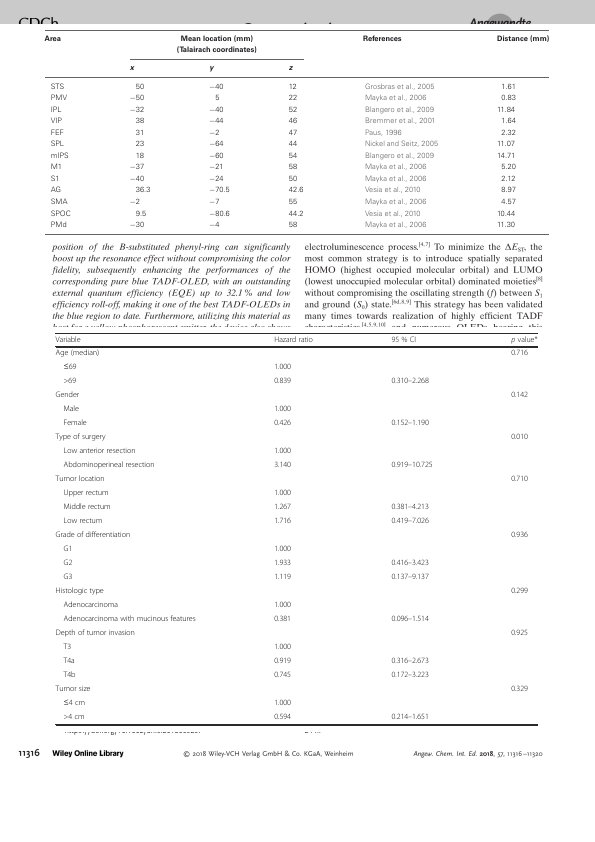borderless: (54, 332, 537, 724), (44, 29, 549, 234)
cell: (176, 35, 258, 55), (62, 615, 196, 625), (62, 461, 155, 471), (54, 629, 136, 639), (54, 531, 131, 541), (62, 447, 136, 457), (364, 140, 439, 149), (364, 118, 436, 127), (364, 83, 435, 92), (364, 106, 435, 115), (364, 152, 435, 161), (62, 601, 119, 611), (364, 175, 427, 184), (364, 198, 427, 207), (364, 221, 427, 230), (364, 187, 421, 196), (364, 210, 421, 219), (55, 433, 106, 443), (54, 587, 105, 597), (364, 95, 427, 103), (364, 164, 427, 172), (55, 475, 105, 485), (62, 503, 112, 513), (62, 489, 109, 499), (55, 349, 100, 359), (496, 35, 550, 43), (390, 461, 433, 471), (62, 517, 103, 527), (390, 377, 430, 387), (390, 419, 430, 429), (390, 503, 430, 513), (390, 517, 430, 527), (390, 559, 430, 569), (390, 573, 430, 583), (390, 615, 430, 625), (390, 657, 430, 667), (390, 671, 430, 681), (390, 713, 430, 723), (54, 685, 91, 695), (273, 336, 314, 345), (364, 129, 403, 138), (362, 35, 403, 43), (62, 419, 88, 429), (510, 336, 538, 345), (55, 391, 80, 401), (390, 336, 417, 345), (62, 699, 86, 709), (55, 336, 81, 345), (62, 713, 85, 723), (208, 187, 231, 196), (208, 210, 231, 219), (50, 210, 72, 219), (510, 349, 529, 359), (273, 363, 292, 373), (273, 377, 292, 387), (510, 391, 529, 401), (273, 405, 292, 415), (273, 419, 292, 429), (510, 433, 529, 443), (273, 447, 292, 457), (273, 461, 292, 471), (510, 475, 529, 485), (273, 489, 292, 499), (273, 503, 292, 513), (273, 517, 292, 527), (510, 531, 529, 541), (273, 545, 292, 555), (273, 559, 292, 569), (273, 573, 292, 583), (510, 587, 529, 597), (273, 601, 292, 611), (273, 615, 292, 625), (510, 629, 529, 639), (273, 643, 292, 653), (273, 657, 292, 667), (273, 671, 292, 681), (510, 685, 529, 695), (273, 699, 292, 709), (273, 713, 292, 723), (62, 405, 80, 415), (496, 106, 516, 115), (496, 140, 516, 149), (50, 152, 70, 161), (496, 152, 516, 161), (496, 210, 516, 219), (496, 221, 516, 230), (50, 198, 68, 207), (50, 221, 68, 230), (208, 83, 225, 92), (500, 83, 517, 92), (208, 106, 225, 115), (208, 118, 225, 127), (500, 118, 517, 127), (500, 129, 517, 138), (208, 140, 225, 149), (208, 152, 225, 161), (208, 164, 225, 173), (208, 175, 225, 184), (500, 187, 517, 196), (500, 198, 517, 207), (43, 35, 62, 43), (62, 363, 77, 373), (62, 377, 77, 387), (50, 95, 68, 103), (129, 106, 145, 115), (129, 164, 145, 173), (129, 175, 145, 184), (500, 175, 516, 184), (135, 187, 151, 196), (288, 187, 304, 196), (288, 210, 304, 219), (129, 221, 145, 230), (62, 657, 76, 667), (62, 671, 76, 681), (500, 95, 517, 103), (500, 164, 517, 172), (50, 83, 65, 92), (50, 129, 65, 138), (50, 140, 65, 149), (129, 95, 145, 103), (50, 106, 63, 115), (50, 118, 63, 127), (50, 164, 63, 173), (62, 545, 73, 555), (62, 559, 73, 569), (62, 573, 73, 583), (208, 129, 220, 138), (50, 187, 62, 196), (129, 198, 141, 207), (208, 198, 220, 207), (135, 210, 147, 219), (208, 221, 220, 230), (62, 643, 72, 653), (135, 83, 145, 92), (288, 83, 298, 92), (288, 106, 298, 115), (135, 118, 145, 127), (288, 118, 298, 127), (135, 129, 145, 138), (288, 129, 298, 138), (135, 140, 145, 149), (288, 140, 298, 149), (135, 152, 145, 161), (288, 152, 298, 161), (288, 164, 298, 173), (50, 175, 60, 184), (288, 175, 298, 184), (288, 198, 298, 207), (288, 221, 298, 230), (288, 95, 298, 103), (214, 95, 220, 103), (129, 66, 135, 73), (208, 66, 214, 73), (288, 66, 293, 73)
